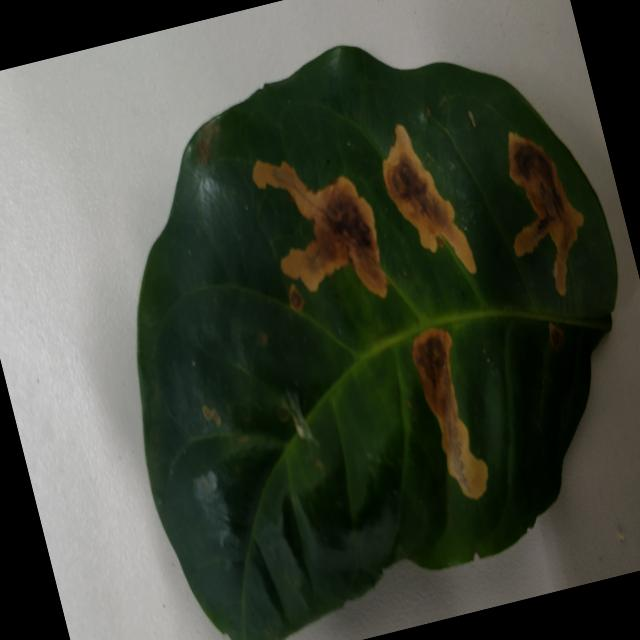PengorokDaunKopi: (252, 160, 387, 297), (382, 124, 476, 273), (411, 328, 488, 499), (508, 132, 584, 295), (198, 118, 219, 165), (548, 322, 563, 350), (202, 404, 221, 426), (289, 285, 304, 312), (467, 110, 476, 127)
